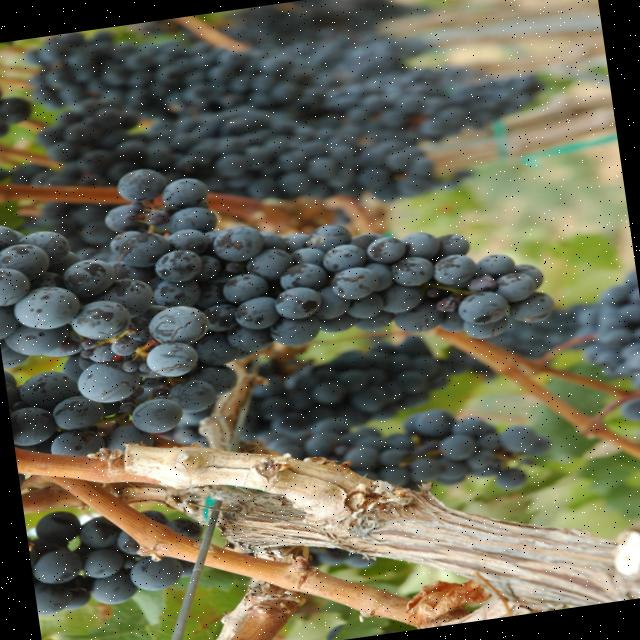grape: (0, 32, 559, 482), (0, 169, 552, 455), (14, 32, 539, 200), (246, 339, 467, 436), (250, 342, 454, 431), (28, 511, 193, 615), (30, 514, 191, 614), (348, 411, 548, 488), (0, 94, 27, 137)
